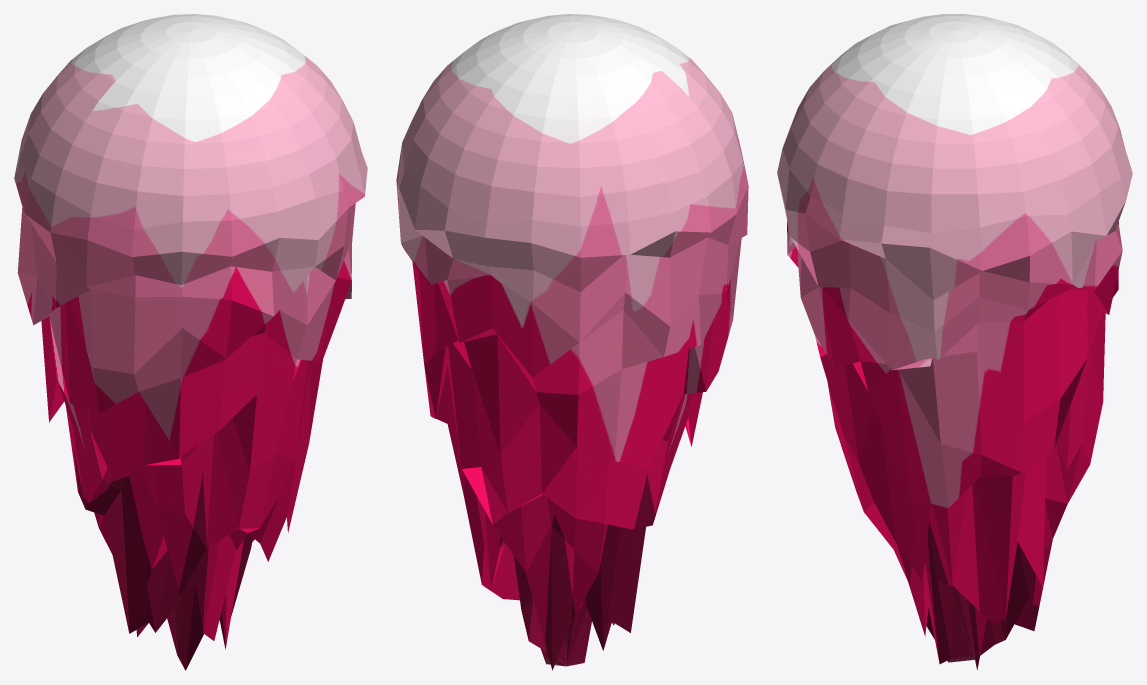
Rendered from WizardShot.fbx.
The picture shows the model from 3 angles, left to right: view 1: azimuth 30°, elevation 25°; view 2: azimuth 150°, elevation 25°; view 3: azimuth 270°, elevation 25°; orthographic projection.
Visible parts, largest first — view 1: Boost; view 2: Boost; view 3: Boost.
Part boxes in pixels (left/top/right/bottom): Boost: left=14, top=14, right=367, bottom=670; Boost: left=396, top=14, right=748, bottom=670; Boost: left=777, top=14, right=1132, bottom=669.
Size of the model in its own units: 218 by 434 by 220.
